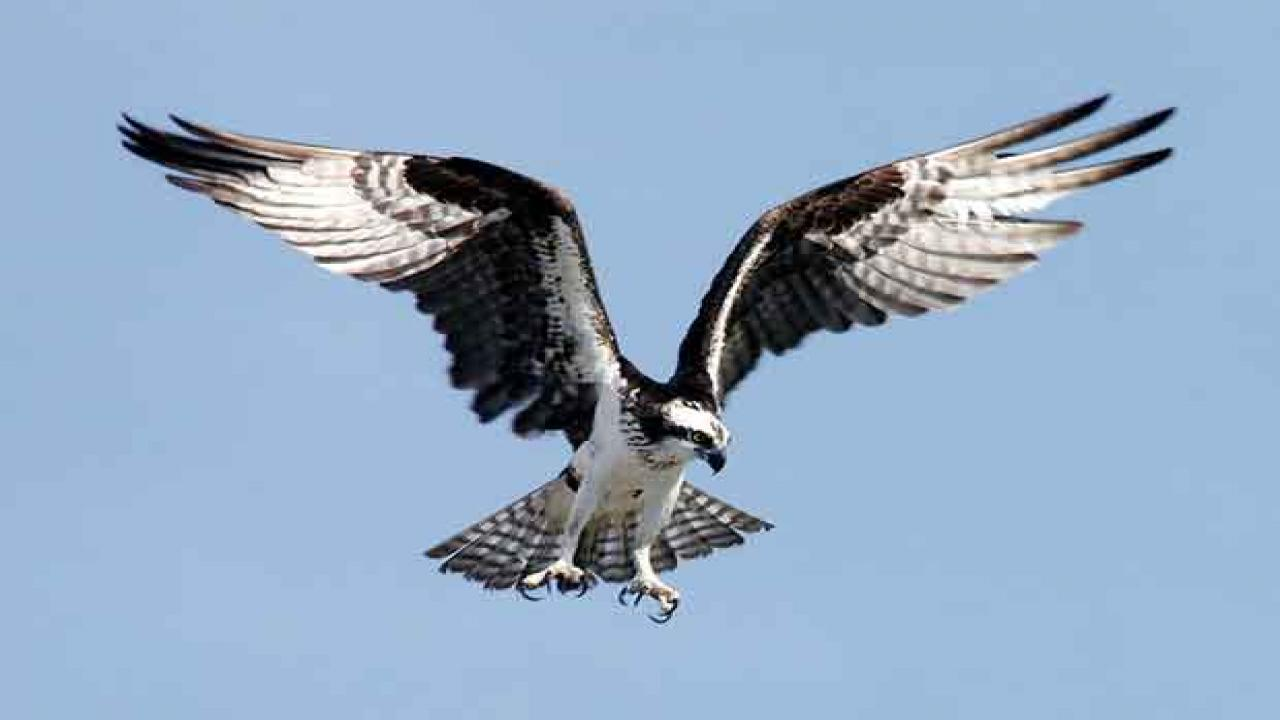Bird: (104, 80, 1199, 639)
